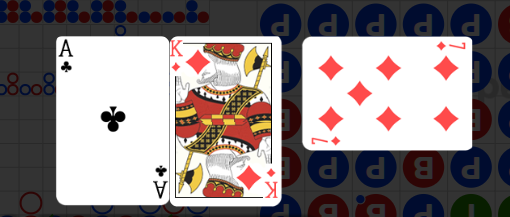7D: (435, 40, 467, 53)
AC: (58, 40, 76, 77)
KD: (265, 166, 280, 200)
